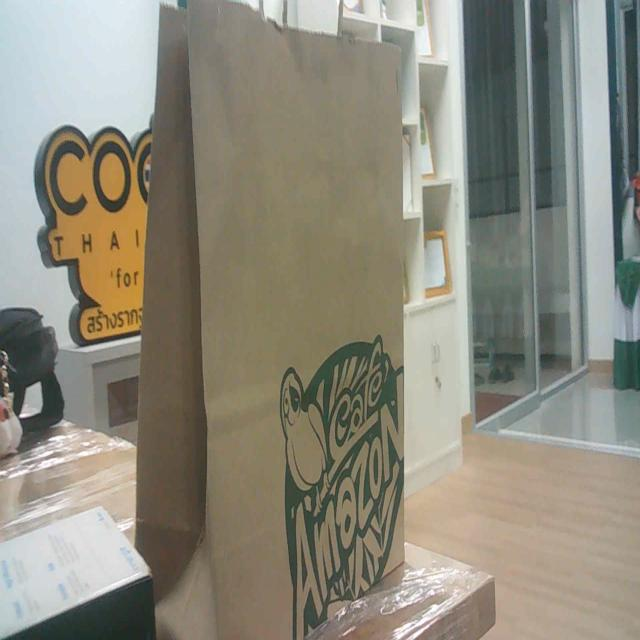bag: (120, 8, 432, 640)
